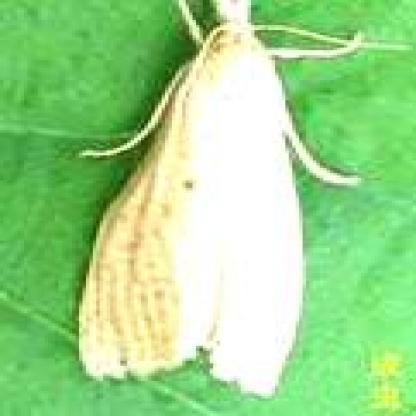stem-borer: (72, 0, 354, 400)
